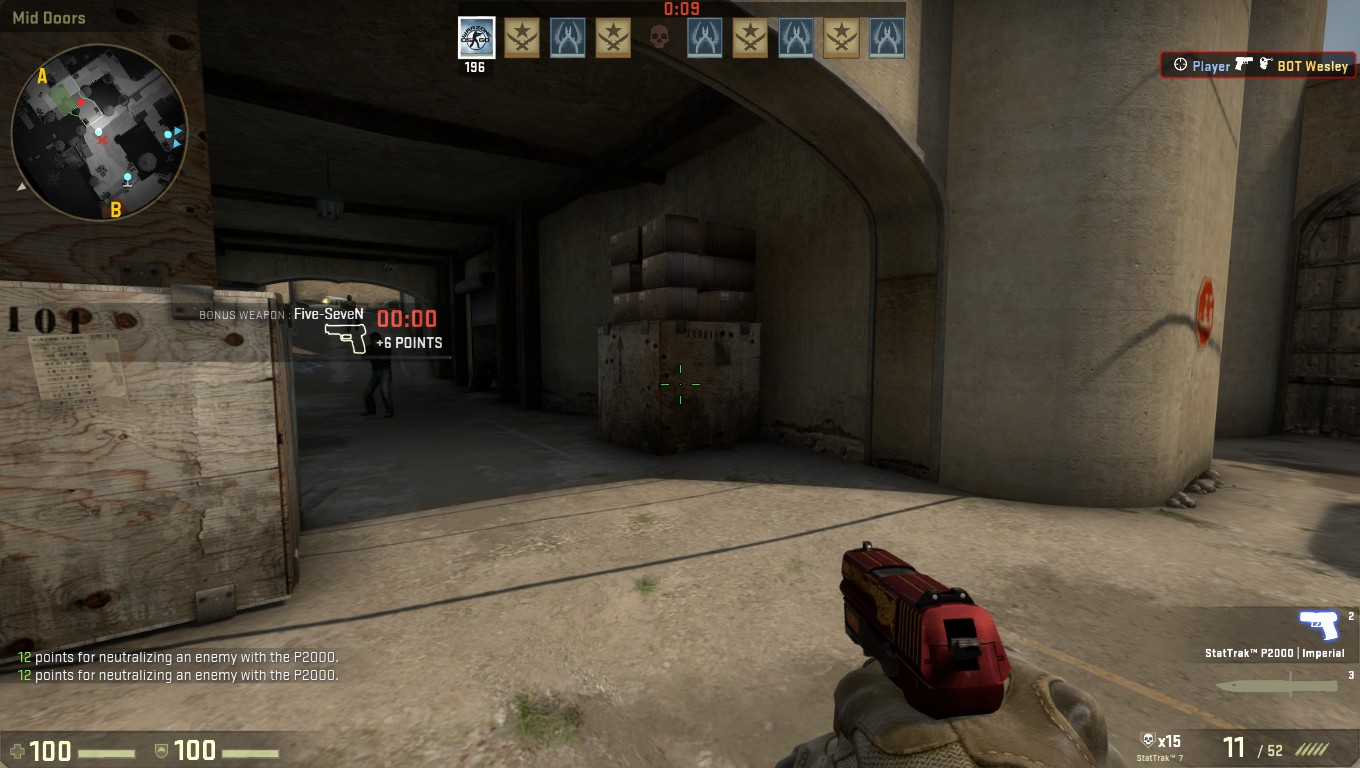t: (360, 329, 402, 424), (340, 291, 364, 333)
